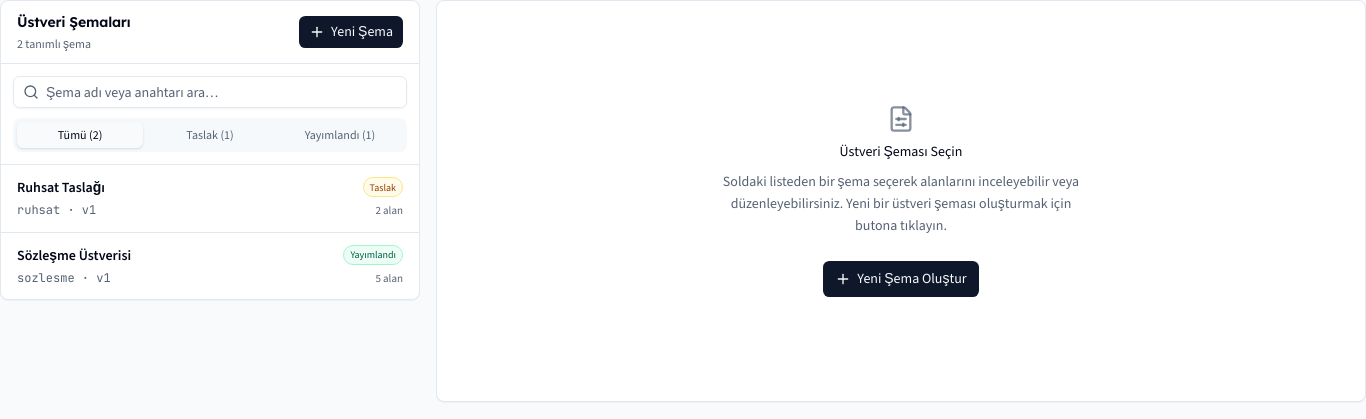
filters schemas by status tab
The image size is (1366, 419).
Click on "Taslak" filter tab
Click the button "Taslak (1)" at (210, 135), box left=147, top=122, right=273, bottom=148
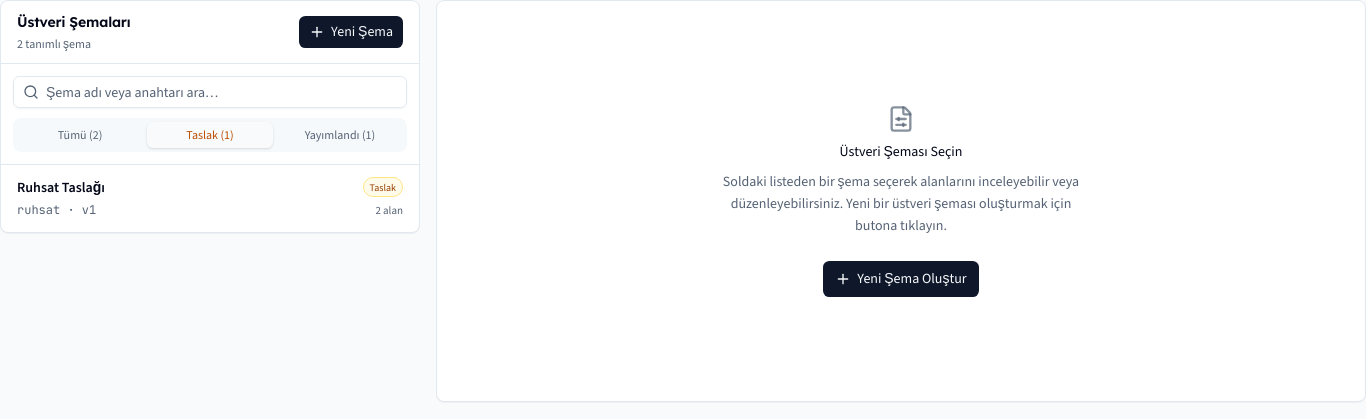
Expected: the text "Ruhsat Taslağı" is shown, left=17, top=178, right=105, bottom=197
Expected: the link "Sözleşme Üstverisi" is gone
Click on "Yayımlandı" filter tab
Click the button "Yayımlandı (1)" at (340, 135), box left=277, top=122, right=403, bottom=148
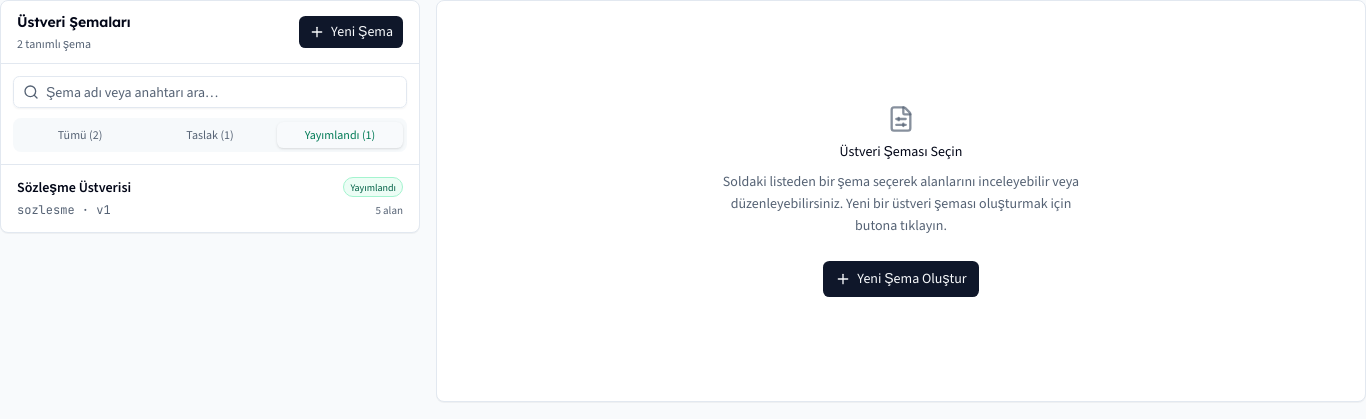
Expected: the link "Ruhsat Taslağı" is gone
Expected: the text "Sözleşme Üstverisi" is shown, left=17, top=178, right=131, bottom=197
